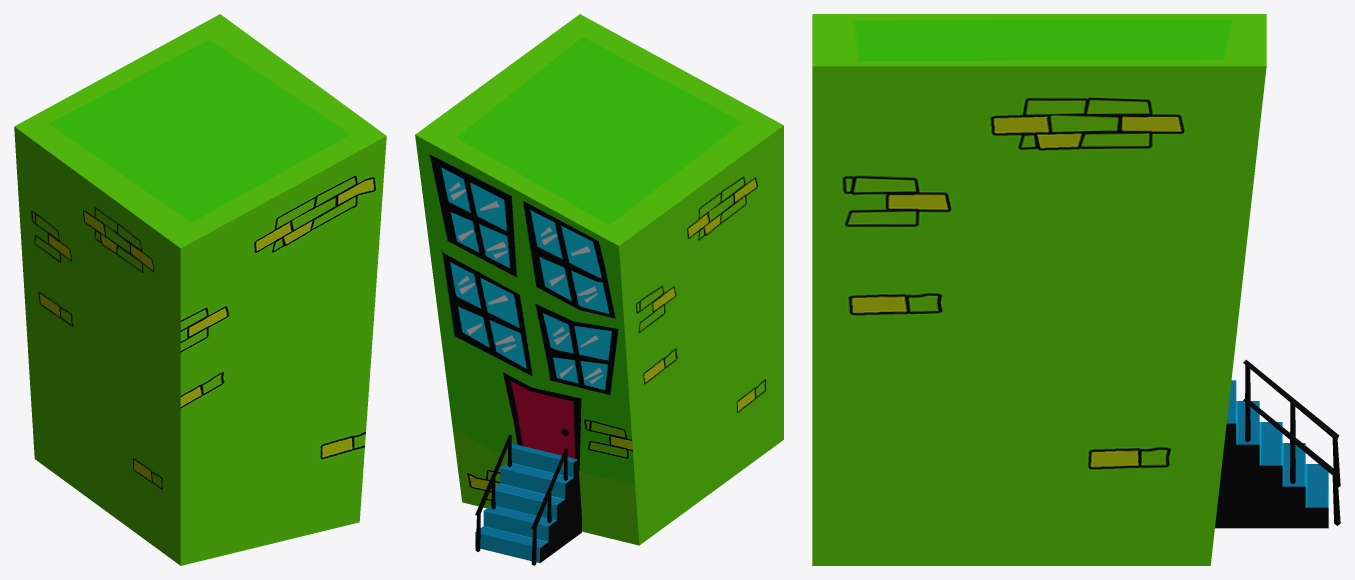
3 renders of one model, left to right at view 1: azimuth 30°, elevation 25°; view 2: azimuth 150°, elevation 25°; view 3: azimuth 270°, elevation 25°, orthographic. The views are drawn at different scales.
Visible parts, largest first — view 1: TODOS:HousesGroup:polySurface65; view 2: TODOS:HousesGroup:polySurface65; view 3: TODOS:HousesGroup:polySurface65.
Part boxes in pixels (x1,y1,x2,y2): TODOS:HousesGroup:polySurface65: (14,14,386,565); TODOS:HousesGroup:polySurface65: (415,14,783,565); TODOS:HousesGroup:polySurface65: (812,14,1340,565).
Size of the model in its own units: 9.66 by 17.02 by 15.74.
